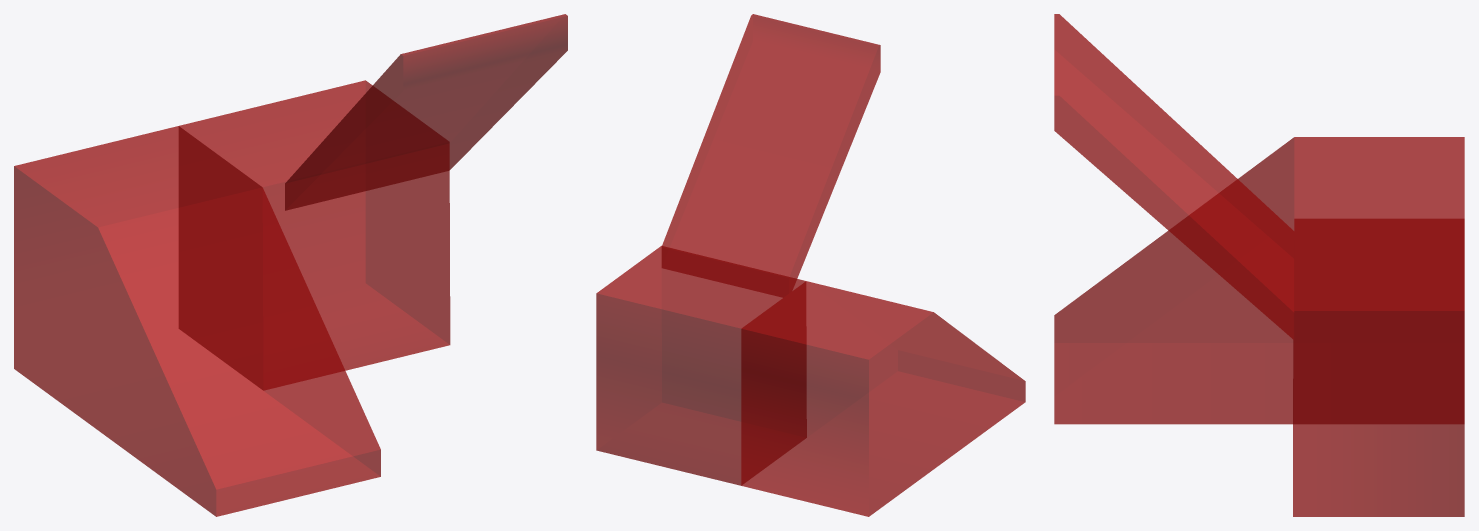
The model's file is SM_Bld_House_Interior_Stairs_03_COLLISION.fbx.
3 renders of one model, left to right at view 1: azimuth 30°, elevation 25°; view 2: azimuth 150°, elevation 25°; view 3: azimuth 270°, elevation 25°, orthographic. The views are drawn at different scales.
Parts seen in each view (by area): view 1: SM_Bld_House_Interior_Stairs_03_COLLISION; view 2: SM_Bld_House_Interior_Stairs_03_COLLISION; view 3: SM_Bld_House_Interior_Stairs_03_COLLISION.
Part boxes in pixels (x1=…): SM_Bld_House_Interior_Stairs_03_COLLISION: x1=14, y1=14, x2=567, y2=516; SM_Bld_House_Interior_Stairs_03_COLLISION: x1=596, y1=14, x2=1025, y2=516; SM_Bld_House_Interior_Stairs_03_COLLISION: x1=1054, y1=14, x2=1464, y2=516.
Size of the model in its own units: 251 by 283 by 250.
